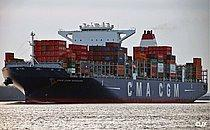Ship: (8, 21, 207, 105)
